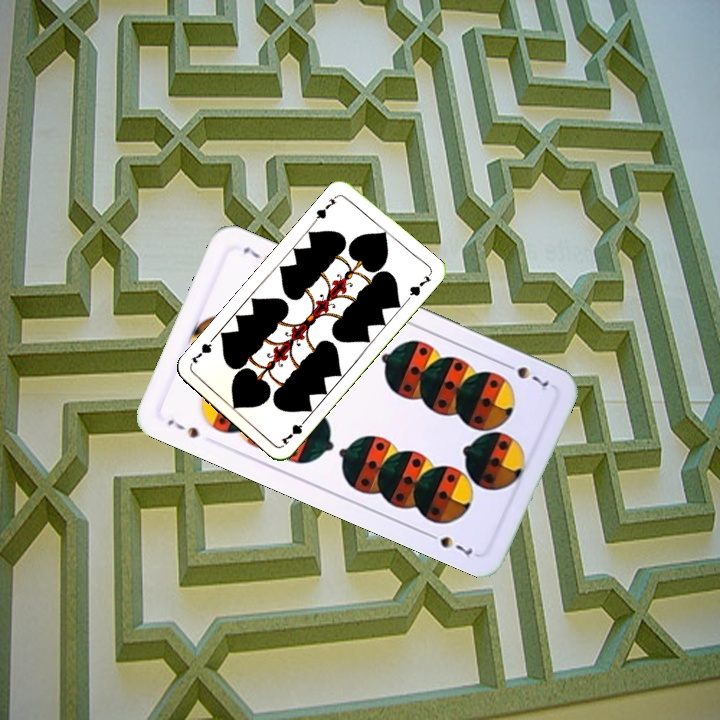G7: (277, 414, 310, 447), (310, 191, 341, 225)
S7: (499, 358, 552, 390), (163, 415, 202, 441)
